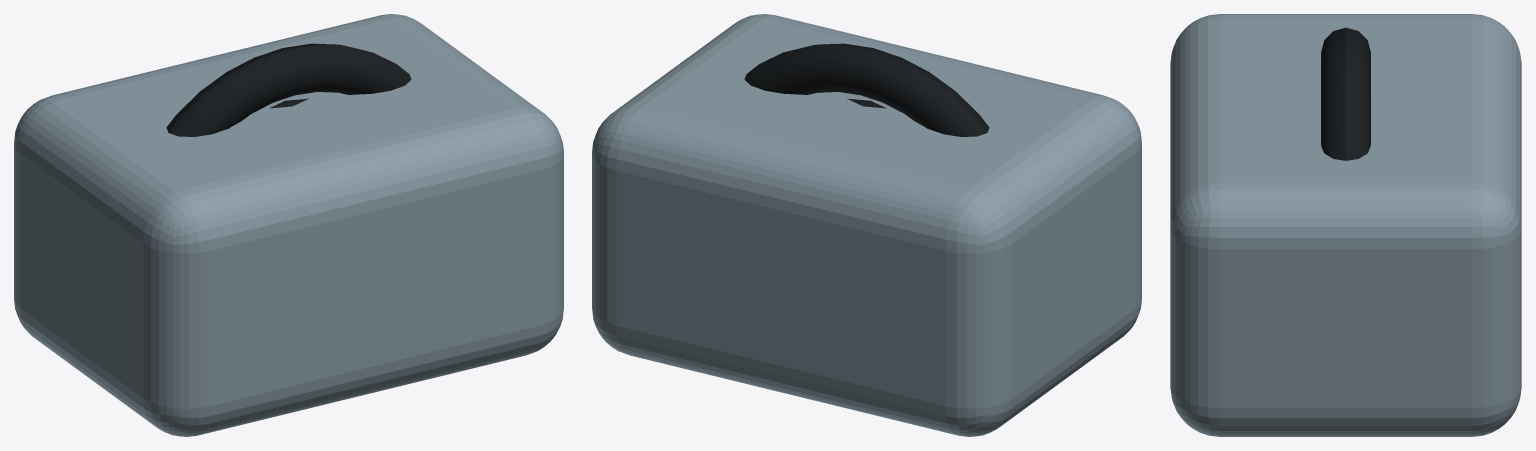
The model's file is electrical_32.glb.
3 renders of one model, left to right at view 1: azimuth 30°, elevation 25°; view 2: azimuth 150°, elevation 25°; view 3: azimuth 270°, elevation 25°, orthographic. The views are drawn at different scales.
Visible parts, largest first — view 1: asset_mesh__electrical_1466__reference_body, asset_mesh__electrical_1474__service_element; view 2: asset_mesh__electrical_1466__reference_body, asset_mesh__electrical_1474__service_element; view 3: asset_mesh__electrical_1466__reference_body, asset_mesh__electrical_1474__service_element.
Boxes of the visible parts, left/top/right/bottom form: asset_mesh__electrical_1466__reference_body: left=14, top=14, right=563, bottom=436; asset_mesh__electrical_1474__service_element: left=166, top=43, right=411, bottom=136; asset_mesh__electrical_1466__reference_body: left=592, top=14, right=1141, bottom=436; asset_mesh__electrical_1474__service_element: left=744, top=43, right=989, bottom=136; asset_mesh__electrical_1466__reference_body: left=1170, top=14, right=1521, bottom=436; asset_mesh__electrical_1474__service_element: left=1321, top=27, right=1370, bottom=160.
Size of the model in its own units: 1.08 by 0.8732 by 0.7728.
